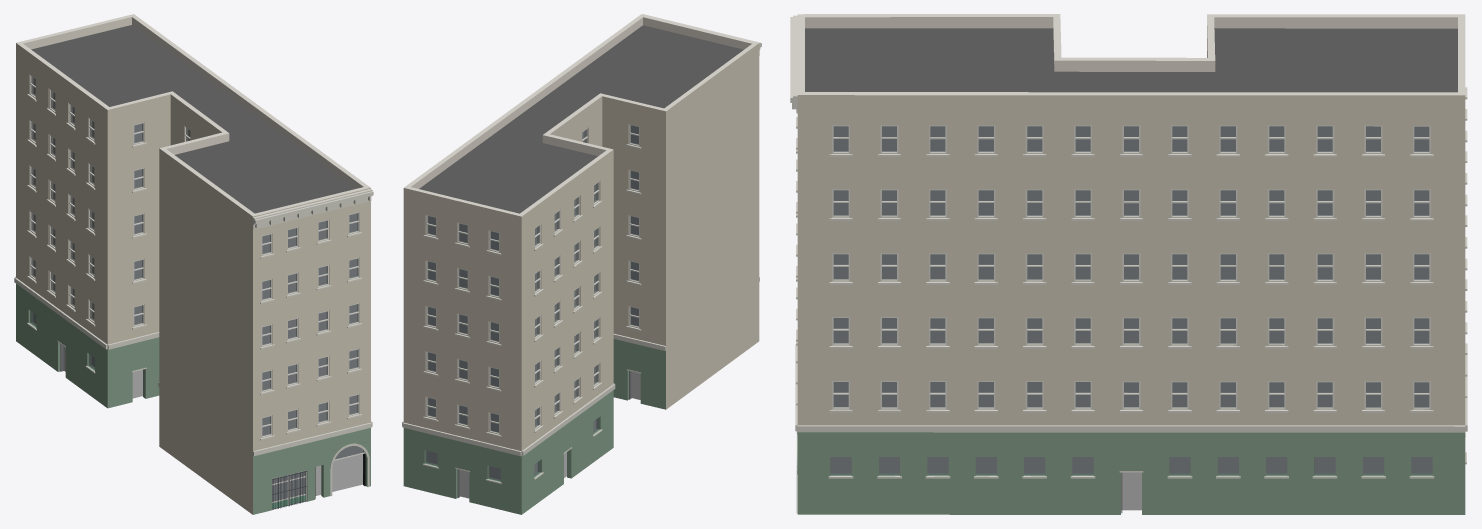
File: exterior.glb
3 renders of one model, left to right at view 1: azimuth 30°, elevation 25°; view 2: azimuth 150°, elevation 25°; view 3: azimuth 270°, elevation 25°, orthographic. The views are drawn at different scales.
Visible parts, largest first — view 1: shell, roof, glazing, shadow-proxy, trim, frames, storefront, hyC-arches-7; view 2: shell, roof, glazing, shadow-proxy, frames, trim; view 3: shell, roof, glazing, shadow-proxy, frames, trim.
Boxes of the visible parts, x1=… form: shell: x1=16, y1=14, x2=370, y2=514; roof: x1=31, y1=25, x2=355, y2=213; glazing: x1=30, y1=76, x2=364, y2=501; shadow-proxy: x1=33, y1=78, x2=362, y2=501; trim: x1=14, y1=94, x2=373, y2=456; frames: x1=29, y1=74, x2=359, y2=437; storefront: x1=57, y1=340, x2=365, y2=509; hyC-arches-7: x1=330, y1=442, x2=369, y2=496; shell: x1=403, y1=14, x2=759, y2=514; roof: x1=419, y1=25, x2=743, y2=213; glazing: x1=425, y1=125, x2=638, y2=481; shadow-proxy: x1=427, y1=125, x2=640, y2=498; frames: x1=426, y1=124, x2=639, y2=434; trim: x1=402, y1=14, x2=761, y2=483; shell: x1=797, y1=14, x2=1465, y2=514; roof: x1=805, y1=28, x2=1457, y2=92; glazing: x1=830, y1=126, x2=1432, y2=475; shadow-proxy: x1=830, y1=126, x2=1432, y2=510; frames: x1=832, y1=125, x2=1430, y2=409; trim: x1=790, y1=15, x2=1467, y2=478.
Size of the model in its own units: 9.26 by 21.77 by 31.86.
